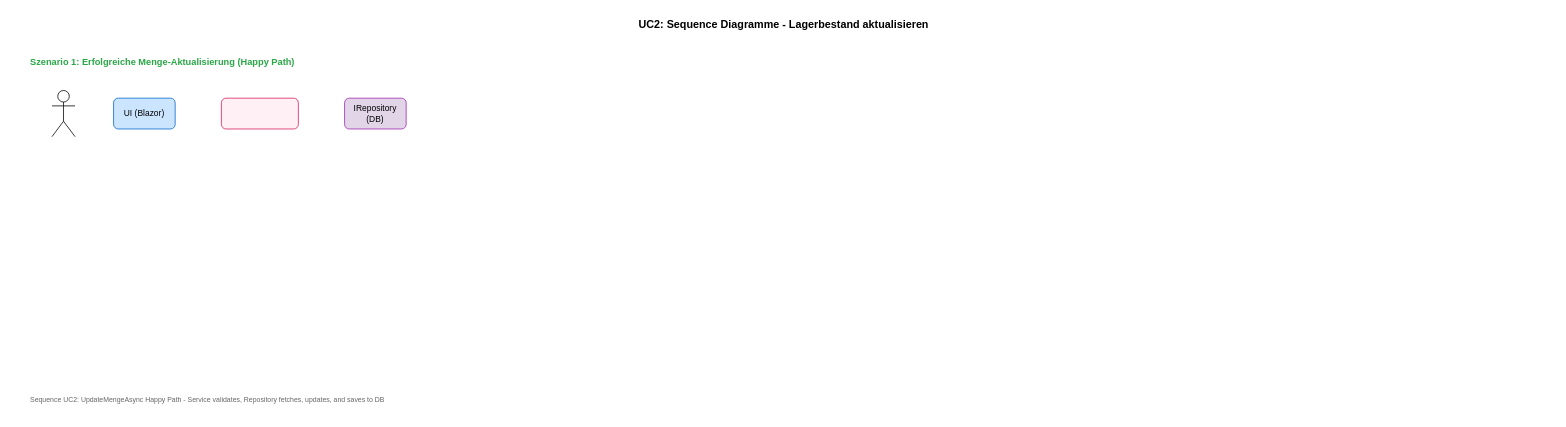
Image size: 1566x427. Some labels were removed from this diagram. The shapes that lost their labels are listed below. From the top down, each one's centre as x and y in pixels, then its label:
At (x=63, y=113): "Benutzer".
At (x=259, y=113): "LagerbestandService".
